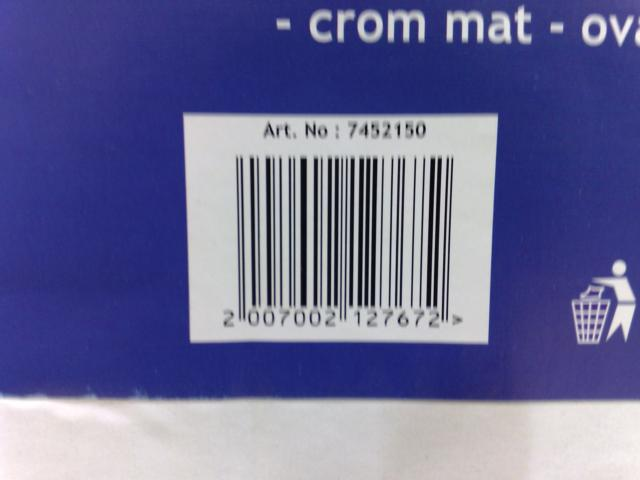Barkod: (232, 153, 453, 308)
